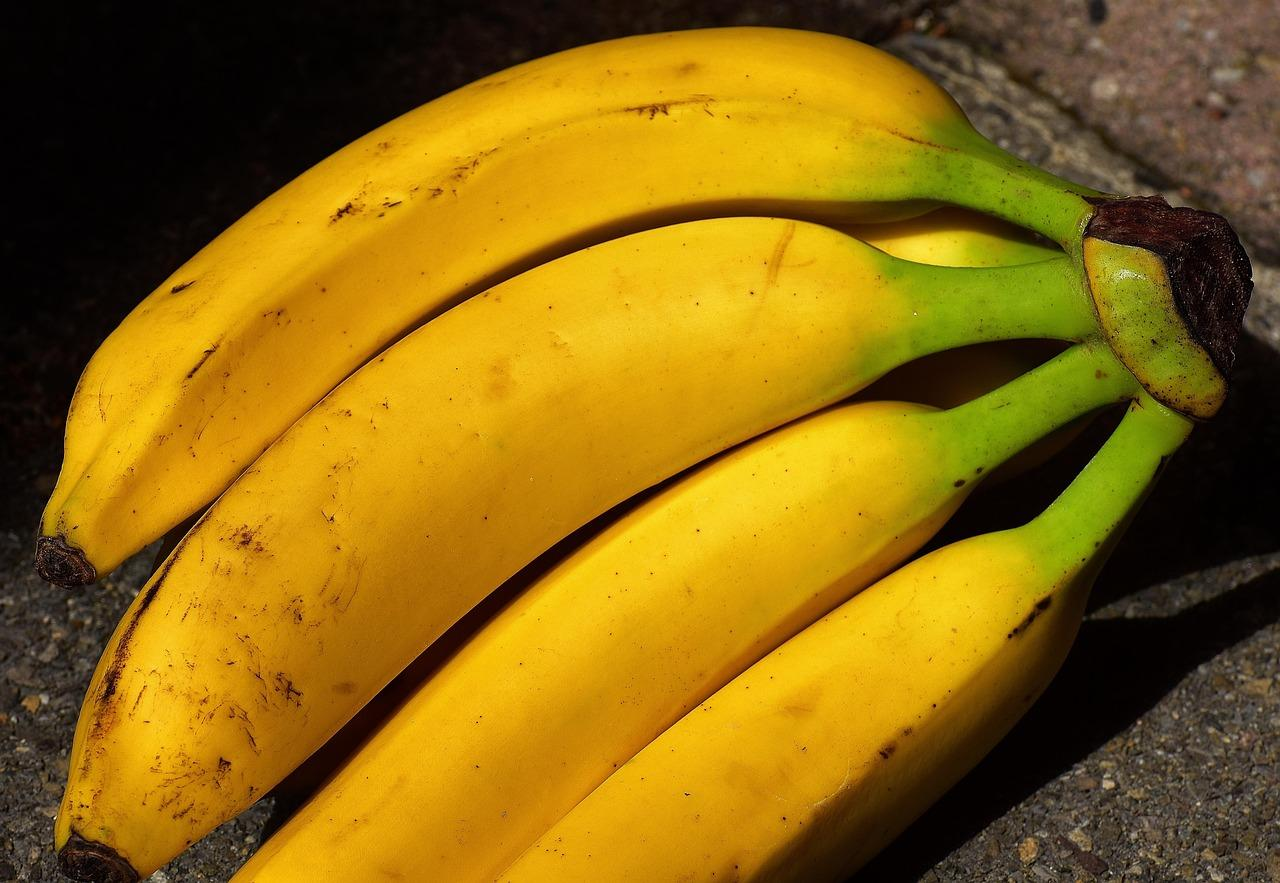banana: (42, 19, 1257, 883)
